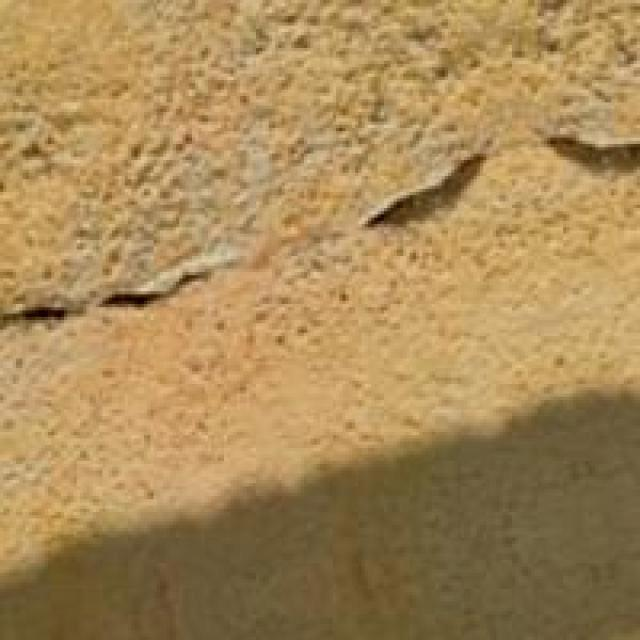crack: (0, 250, 254, 386), (382, 116, 640, 232)
